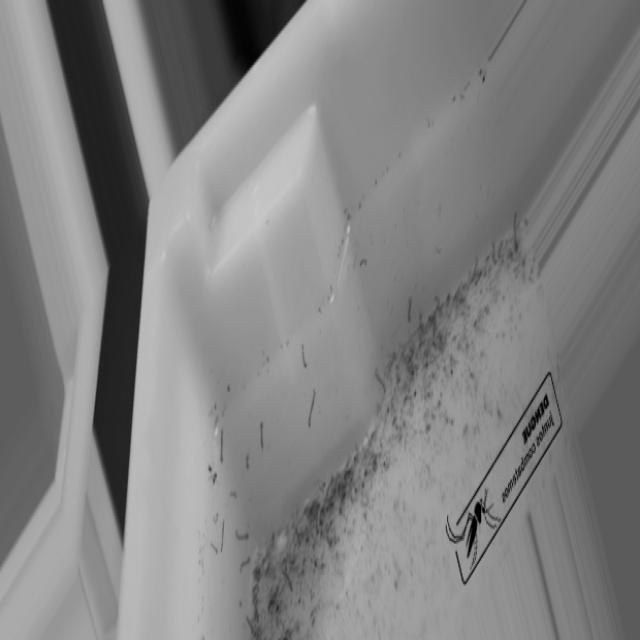larvas: (298, 384, 326, 443), (503, 206, 525, 266), (370, 357, 393, 407), (399, 291, 420, 340), (255, 416, 273, 468), (487, 235, 502, 282), (298, 336, 314, 377), (218, 424, 231, 469), (232, 519, 252, 547), (238, 549, 252, 586), (282, 567, 300, 595), (207, 535, 222, 564), (358, 250, 371, 283), (220, 510, 228, 559), (242, 611, 257, 635), (240, 451, 257, 472)
